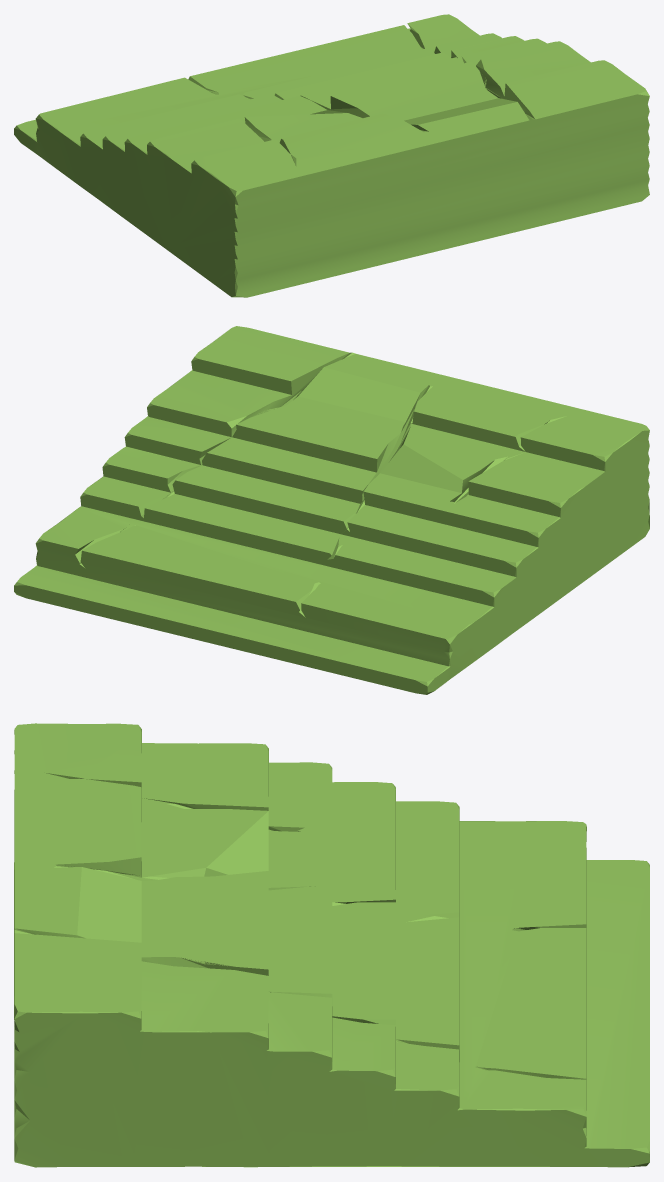
Rendered from Stairs1.obj.
3 views of the same model, one above another, from view 1: azimuth 30°, elevation 25°; view 2: azimuth 150°, elevation 25°; view 3: azimuth 270°, elevation 25° (orthographic). The views are drawn at different scales.
Visible parts, largest first — view 1: Stairs1; view 2: Stairs1; view 3: Stairs1.
Part boxes in pixels (x1,y1,x2,y2): Stairs1: (14,14,649,297); Stairs1: (14,326,649,694); Stairs1: (14,723,649,1167).
Bounding box in the file's own units: 17.34 × 4.36 × 16.09.
